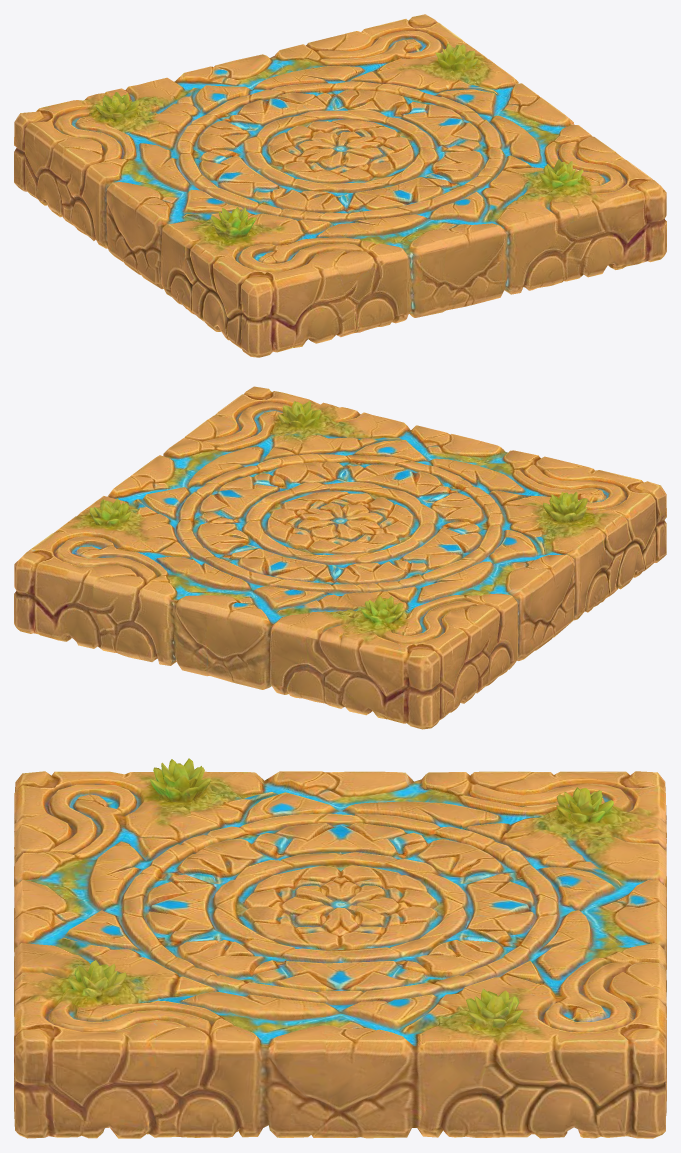
File: woven-mosaic.glb
The picture shows the model from 3 angles, top to bottom: view 1: azimuth 30°, elevation 25°; view 2: azimuth 150°, elevation 25°; view 3: azimuth 270°, elevation 25°; orthographic projection. The views are drawn at different scales.
Size of the model in its own units: 1.9 by 0.4218 by 1.9.
1 material, 1 textured.
